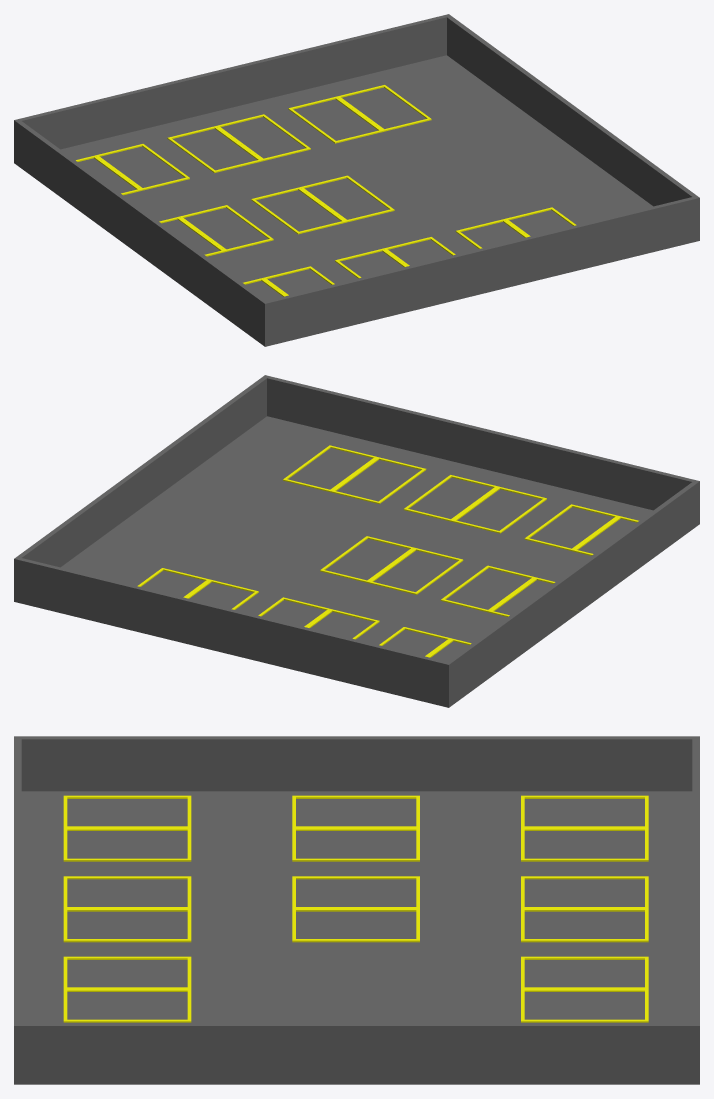
File: parking.dae
3 renders of one model, top to bottom at view 1: azimuth 30°, elevation 25°; view 2: azimuth 150°, elevation 25°; view 3: azimuth 270°, elevation 25°, orthographic. The views are drawn at different scales.
Visible parts, largest first — view 1: a4f831be-4ef7-4445-84d3-d621f86ebc1d, ab16adb1-18ca-4162-84ff-ff8299f31ee0, c5664675-d214-4db6-8cc3-13528b97d683, a9677337-e71c-4100-b1a6-eaeecb529c01, ba2f56f6-91cd-4a7b-8198-c76fd1496992, a9d9cddc-e6c9-458c-8491-d865d4c07d2d, aa5e5419-b6b2-4560-88c3-801019738ae9, a594fea1-9f34-4505-873d-72628d6eef31, a73f2ff6-9e7a-4739-9153-b2af506bf39c; view 2: a4f831be-4ef7-4445-84d3-d621f86ebc1d, aae6b4fb-4d53-4675-9ec2-3854578bd008, c5664675-d214-4db6-8cc3-13528b97d683, aca0a4d8-e7f1-400c-b25e-e08fd2219c89, a594fea1-9f34-4505-873d-72628d6eef31, a7535076-c5e3-4a45-8f28-86693038e1d8, aae6803e-0daa-4fc7-9113-82ac091e5aab, ba2f56f6-91cd-4a7b-8198-c76fd1496992, afe5cec5-8b13-4267-bd43-6859b71236ef; view 3: a4f831be-4ef7-4445-84d3-d621f86ebc1d, a7535076-c5e3-4a45-8f28-86693038e1d8, a9d9cddc-e6c9-458c-8491-d865d4c07d2d, ba2f56f6-91cd-4a7b-8198-c76fd1496992, afe5cec5-8b13-4267-bd43-6859b71236ef, aae6803e-0daa-4fc7-9113-82ac091e5aab, a73f2ff6-9e7a-4739-9153-b2af506bf39c, aa5e5419-b6b2-4560-88c3-801019738ae9, a594fea1-9f34-4505-873d-72628d6eef31, aca0a4d8-e7f1-400c-b25e-e08fd2219c89, a76bd446-0756-49a4-a5e1-1333db07eea4, aae6b4fb-4d53-4675-9ec2-3854578bd008 (+5 smaller).
Boxes of the visible parts, bbox=[...] form: a4f831be-4ef7-4445-84d3-d621f86ebc1d: bbox=[14, 14, 699, 346]; ab16adb1-18ca-4162-84ff-ff8299f31ee0: bbox=[288, 96, 383, 143]; c5664675-d214-4db6-8cc3-13528b97d683: bbox=[251, 187, 346, 234]; a9677337-e71c-4100-b1a6-eaeecb529c01: bbox=[167, 126, 262, 172]; ba2f56f6-91cd-4a7b-8198-c76fd1496992: bbox=[300, 175, 394, 222]; a9d9cddc-e6c9-458c-8491-d865d4c07d2d: bbox=[216, 114, 310, 161]; aa5e5419-b6b2-4560-88c3-801019738ae9: bbox=[95, 144, 189, 190]; a594fea1-9f34-4505-873d-72628d6eef31: bbox=[179, 205, 273, 251]; a73f2ff6-9e7a-4739-9153-b2af506bf39c: bbox=[337, 85, 431, 131]; a4f831be-4ef7-4445-84d3-d621f86ebc1d: bbox=[14, 375, 699, 707]; aae6b4fb-4d53-4675-9ec2-3854578bd008: bbox=[331, 457, 426, 504]; c5664675-d214-4db6-8cc3-13528b97d683: bbox=[368, 548, 463, 594]; aca0a4d8-e7f1-400c-b25e-e08fd2219c89: bbox=[452, 486, 546, 533]; a594fea1-9f34-4505-873d-72628d6eef31: bbox=[440, 565, 535, 612]; a7535076-c5e3-4a45-8f28-86693038e1d8: bbox=[403, 475, 498, 521]; aae6803e-0daa-4fc7-9113-82ac091e5aab: bbox=[283, 445, 377, 492]; ba2f56f6-91cd-4a7b-8198-c76fd1496992: bbox=[320, 536, 414, 582]; afe5cec5-8b13-4267-bd43-6859b71236ef: bbox=[524, 504, 618, 551]; a4f831be-4ef7-4445-84d3-d621f86ebc1d: bbox=[14, 736, 699, 1084]; a7535076-c5e3-4a45-8f28-86693038e1d8: bbox=[63, 908, 191, 942]; a9d9cddc-e6c9-458c-8491-d865d4c07d2d: bbox=[521, 908, 648, 942]; ba2f56f6-91cd-4a7b-8198-c76fd1496992: bbox=[292, 908, 419, 942]; afe5cec5-8b13-4267-bd43-6859b71236ef: bbox=[63, 828, 191, 861]; aae6803e-0daa-4fc7-9113-82ac091e5aab: bbox=[63, 989, 191, 1022]; a73f2ff6-9e7a-4739-9153-b2af506bf39c: bbox=[521, 989, 648, 1022]; aa5e5419-b6b2-4560-88c3-801019738ae9: bbox=[521, 828, 648, 861]; a594fea1-9f34-4505-873d-72628d6eef31: bbox=[292, 828, 419, 861]; aca0a4d8-e7f1-400c-b25e-e08fd2219c89: bbox=[63, 876, 191, 908]; a76bd446-0756-49a4-a5e1-1333db07eea4: bbox=[63, 795, 191, 827]; aae6b4fb-4d53-4675-9ec2-3854578bd008: bbox=[63, 956, 191, 988].
Size of the model in its own units: 18 by 18 by 1.7.
